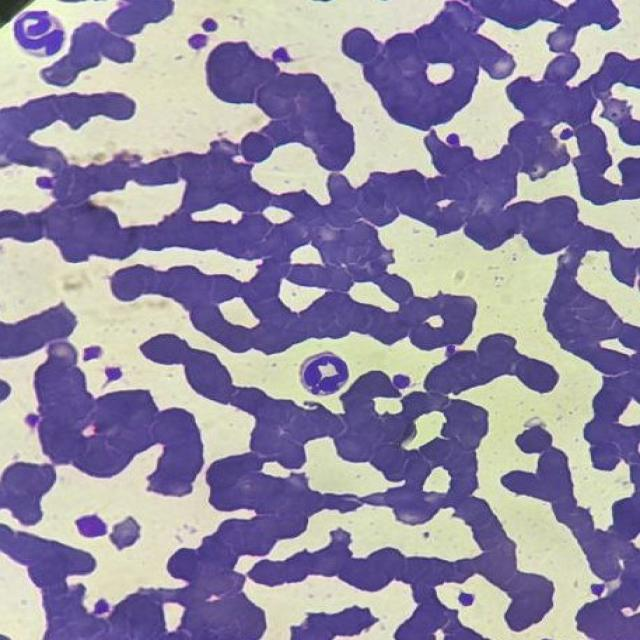Neutrofilo: (14, 7, 70, 58), (298, 350, 357, 398)
